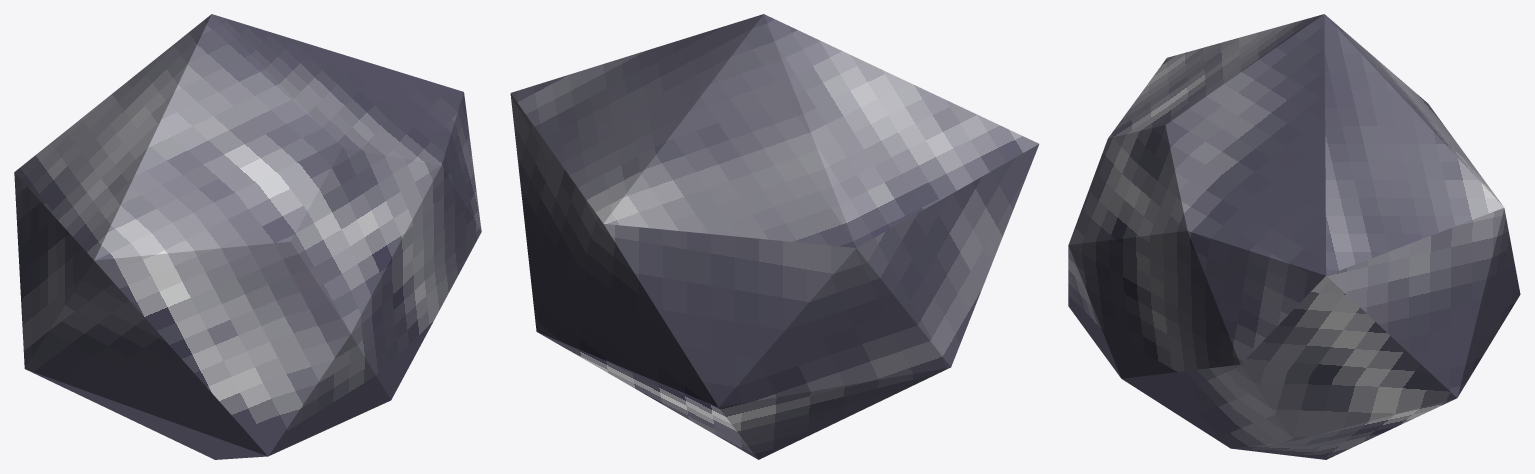
Rendered from Piedra 1.fbx.
The picture shows the model from 3 angles, left to right: view 1: azimuth 30°, elevation 25°; view 2: azimuth 150°, elevation 25°; view 3: azimuth 270°, elevation 25°; orthographic projection.
Visible parts, largest first — view 1: Icosphere; view 2: Icosphere; view 3: Icosphere.
Boxes of the visible parts, <box> form: Icosphere: <box>14,14,481,459</box>; Icosphere: <box>510,14,1039,459</box>; Icosphere: <box>1068,14,1520,459</box>.
Size of the model in its own units: 222 by 211 by 195.
1 material, 1 textured.
